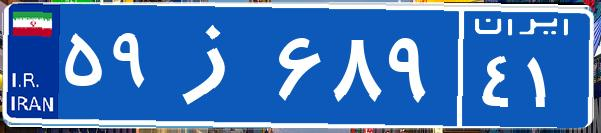1: (525, 38, 570, 115)
4: (475, 38, 525, 113)
5: (57, 26, 110, 107)
6: (273, 28, 330, 110)
8: (330, 28, 385, 110)
9: (385, 28, 445, 110), (110, 28, 158, 105)
ز: (158, 15, 273, 115)
